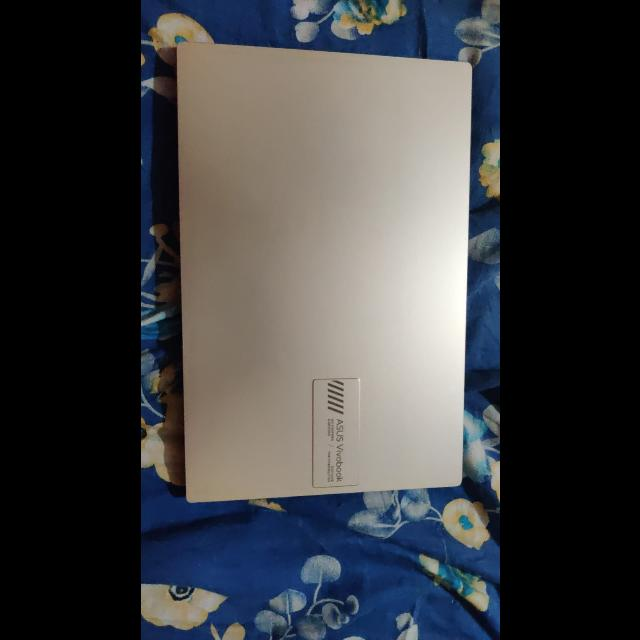laptop: (165, 25, 482, 508)
